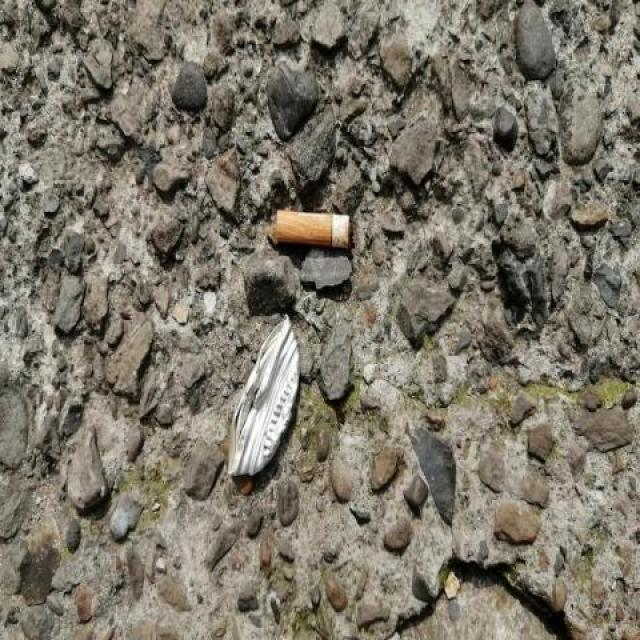non-organic waste: (268, 204, 357, 252)
